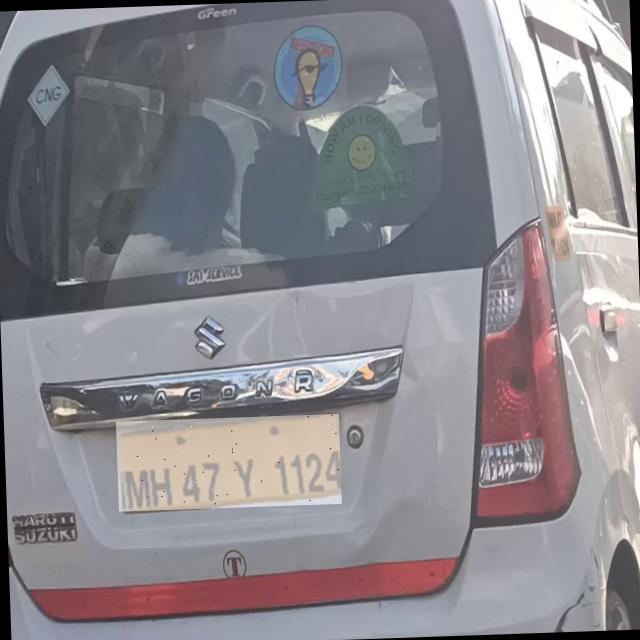Plate: (117, 415, 343, 513)
